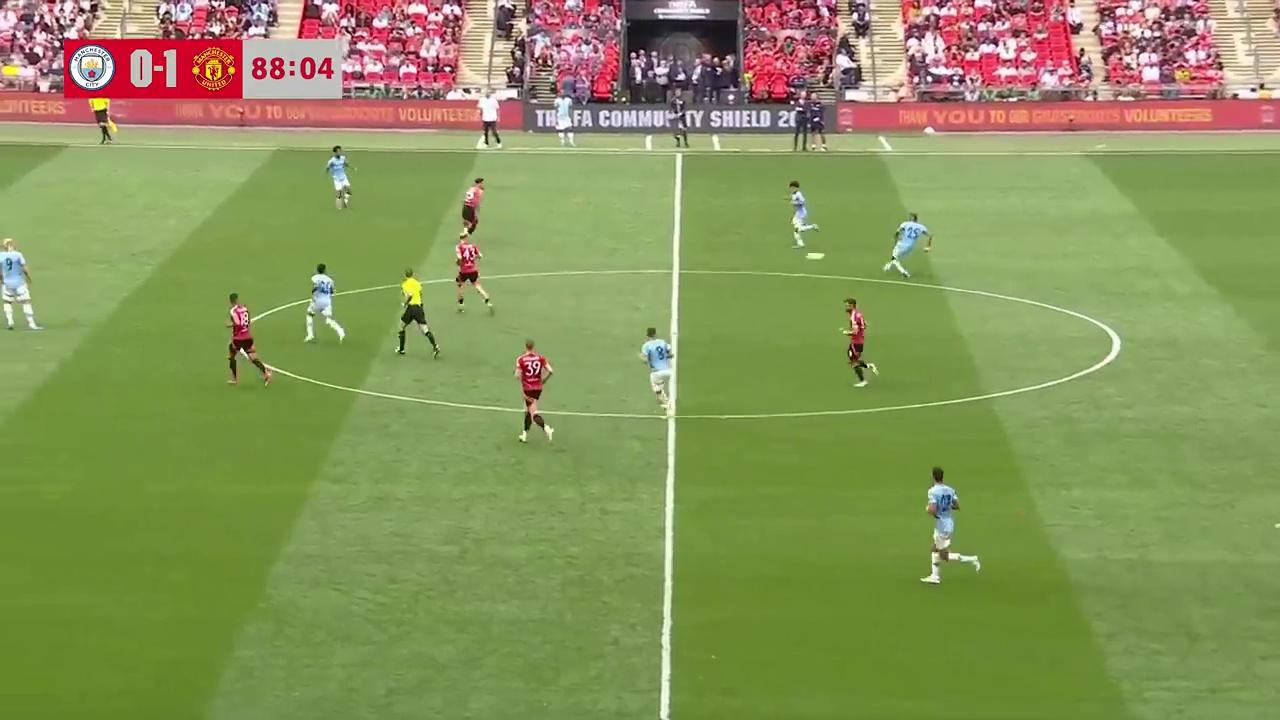player: (920, 467, 982, 584), (224, 294, 271, 386), (513, 340, 554, 444), (0, 240, 42, 331), (302, 263, 345, 345), (453, 234, 493, 316), (639, 326, 675, 413), (841, 298, 877, 385), (882, 214, 922, 276), (786, 180, 816, 245), (325, 145, 353, 210), (461, 176, 484, 238)
referee: (393, 268, 441, 358), (94, 92, 117, 146)
